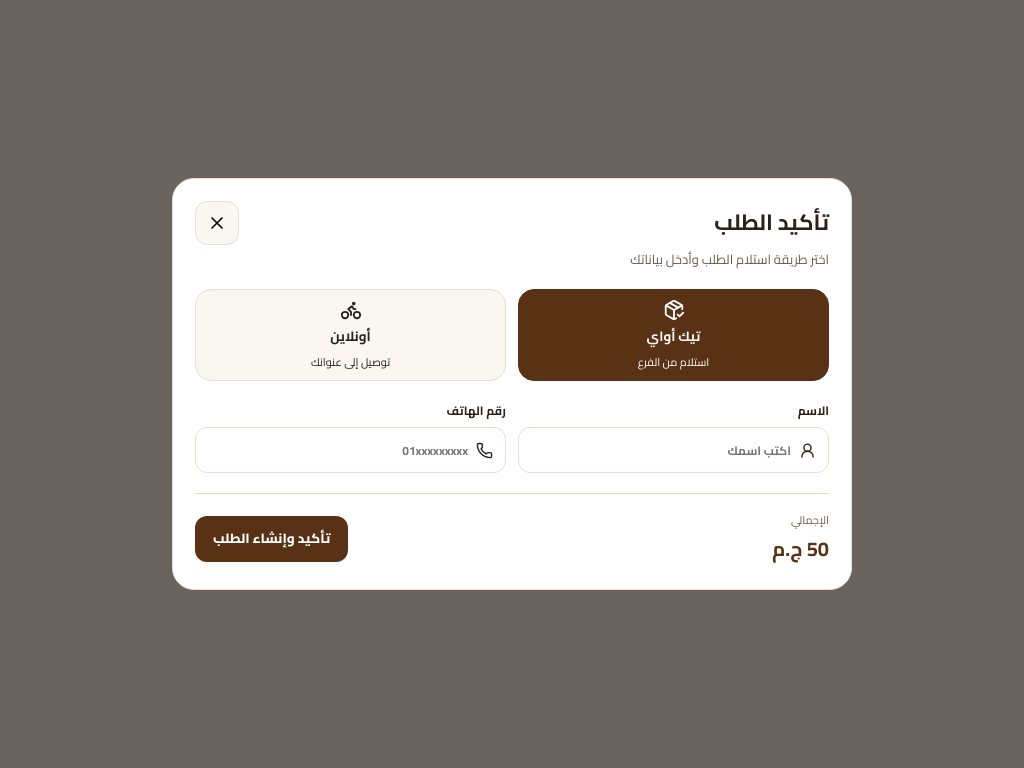
Test: order checkout confirmation › keeps the form open and shows the backend error when confirmation fails
The image size is (1024, 768).
Type "أحمد علي" into the field with placeholder "اكتب اسمك" at (661, 450), box [531, 438, 791, 462]
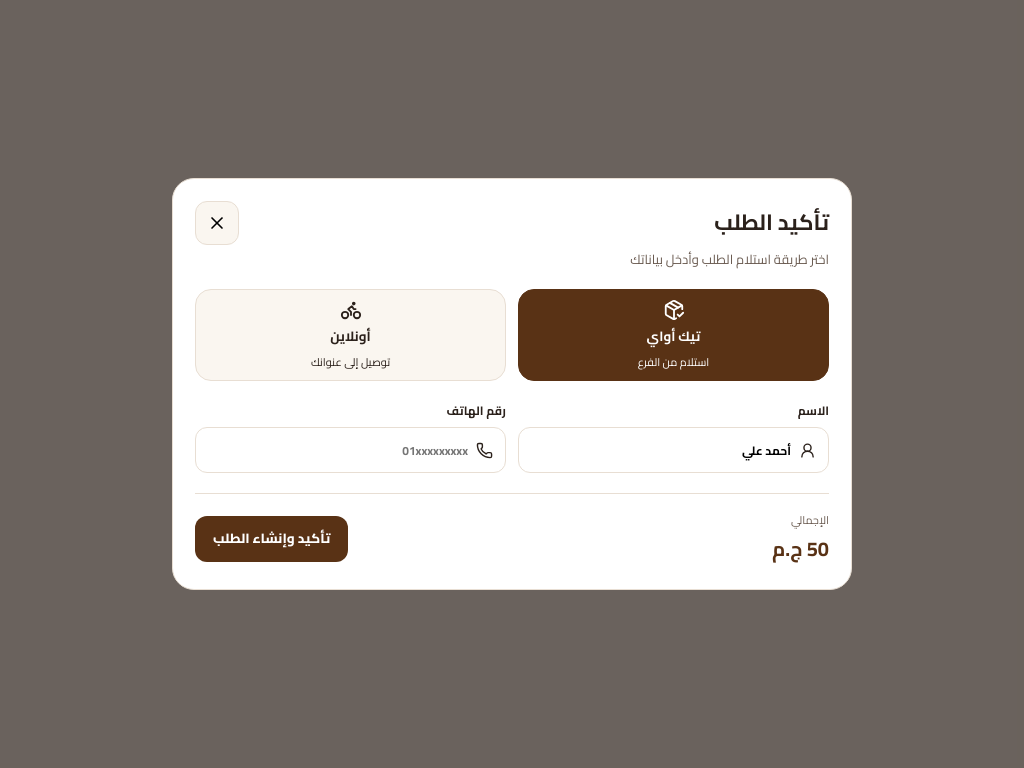
Type "01001234567" into the field with placeholder "01xxxxxxxxx" at (338, 450), box [208, 438, 468, 462]
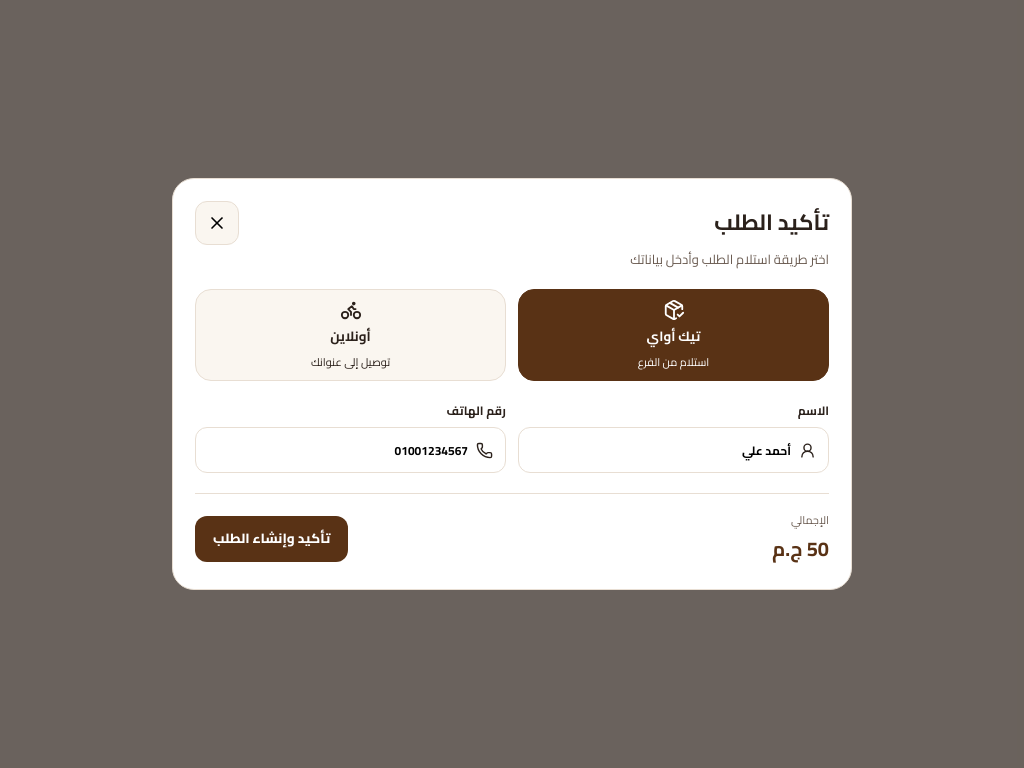
Click the button "تأكيد وإنشاء الطلب" at (272, 538), box [195, 516, 348, 562]
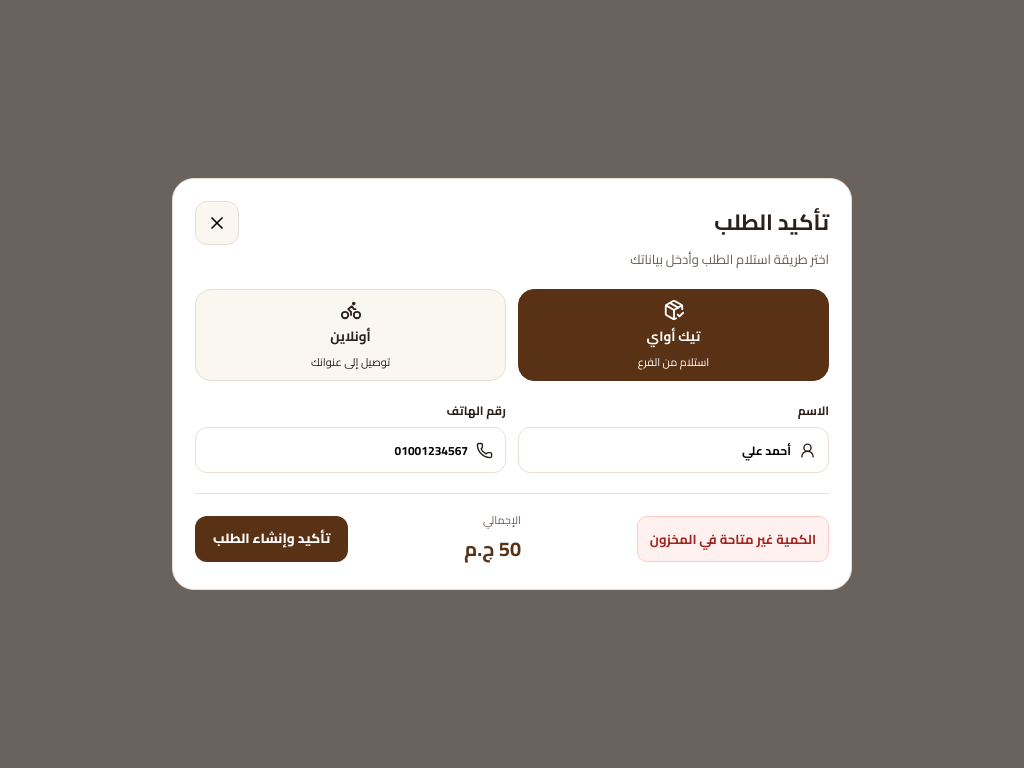
Expected: the heading "تأكيد الطلب" is shown, [714, 201, 829, 243]
Expected: the message reads "الكمية غير متاحة في المخزون", [650, 526, 816, 550]
